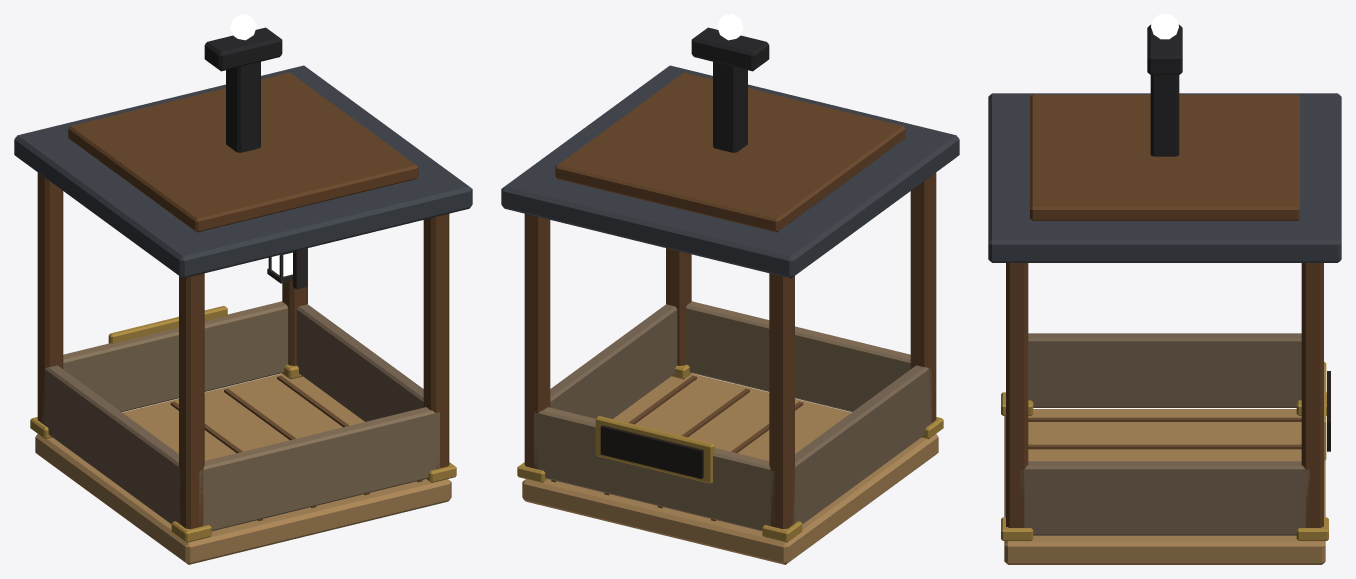
File: GondolaCabin.glb
3 renders of one model, left to right at view 1: azimuth 30°, elevation 25°; view 2: azimuth 150°, elevation 25°; view 3: azimuth 270°, elevation 25°, orthographic. The views are drawn at different scales.
Visible parts, largest first — view 1: Body, Floor, Glow; view 2: Body, Floor, Sign; view 3: Body, Floor, Glow.
Boxes of the visible parts, x1,y1,x2,y2 form: Body: (14,27,472,542); Floor: (35,373,451,564); Glow: (230,14,292,276); Body: (501,27,959,542); Floor: (522,373,938,564); Sign: (600,425,703,478); Body: (988,25,1341,540); Floor: (1004,409,1325,564); Glow: (1151,14,1178,39).
Size of what is drawn, in the model's own units: 5.5 by 8.31 by 5.5.
